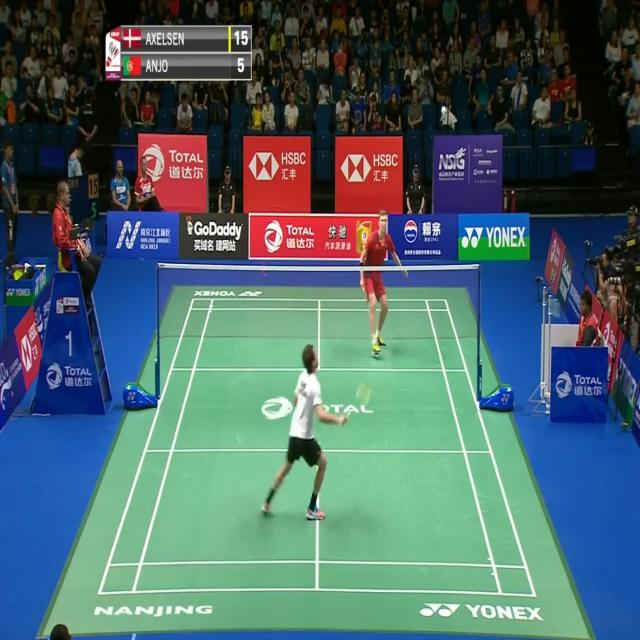Player1: (256, 334, 348, 532)
Player2: (358, 202, 410, 368)
